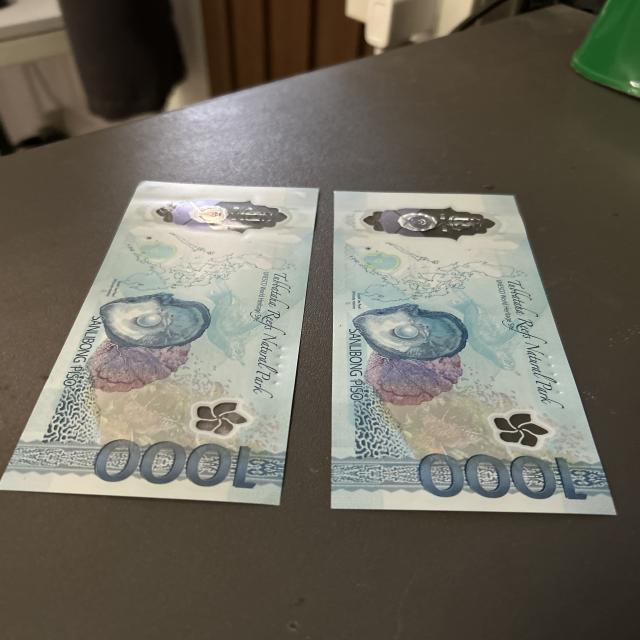clear_window: (152, 187, 278, 238), (358, 206, 508, 242)
sampaguita: (184, 398, 252, 438), (486, 409, 552, 447)
value: (72, 435, 272, 487), (405, 444, 589, 499)
